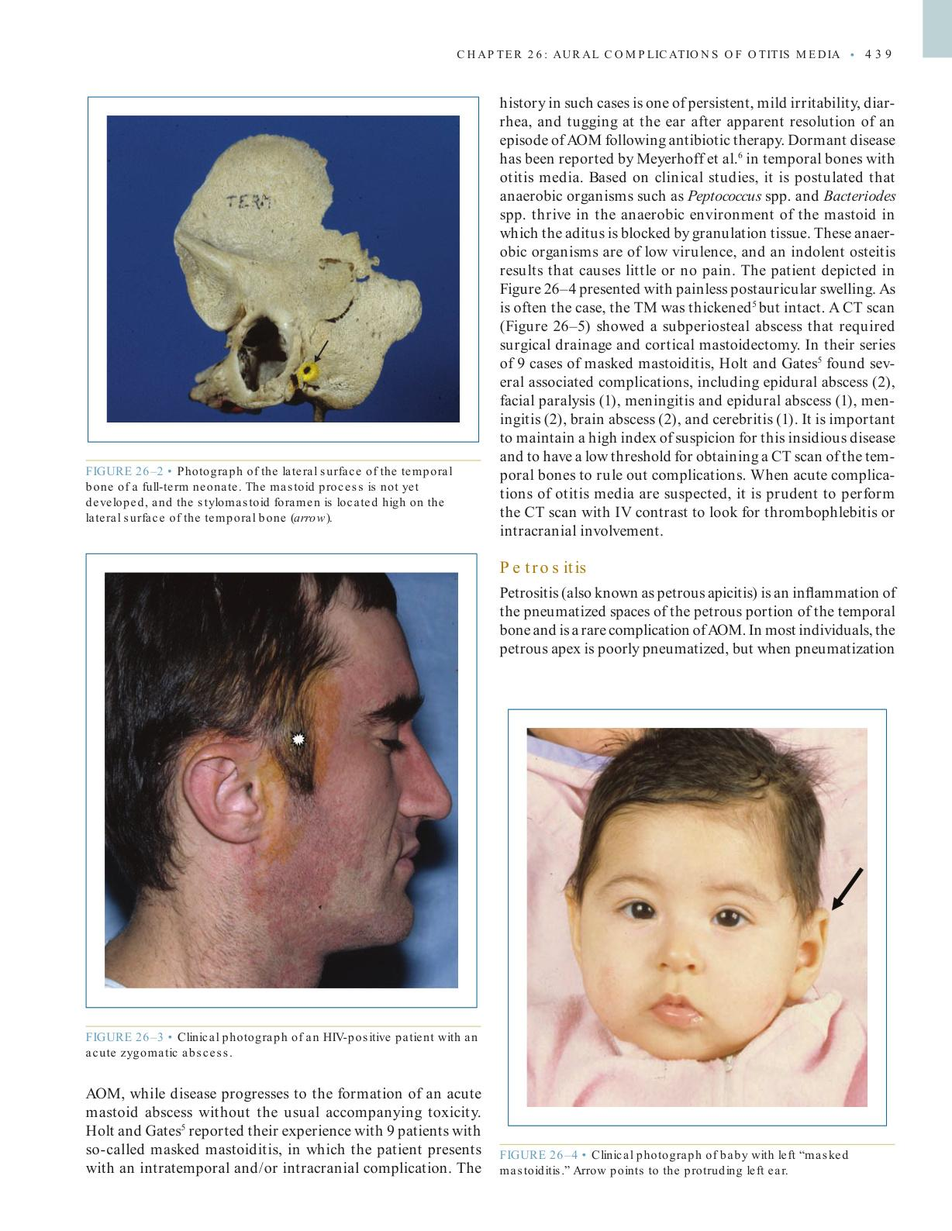caption: (84, 463, 454, 528), (84, 1029, 480, 1061), (498, 1147, 850, 1179), (455, 47, 844, 60)
image: (104, 571, 459, 989), (526, 725, 868, 1110), (106, 113, 460, 424)
section-heading: (498, 557, 589, 576)
text: (497, 93, 895, 538), (82, 1082, 485, 1179), (497, 584, 899, 659)
